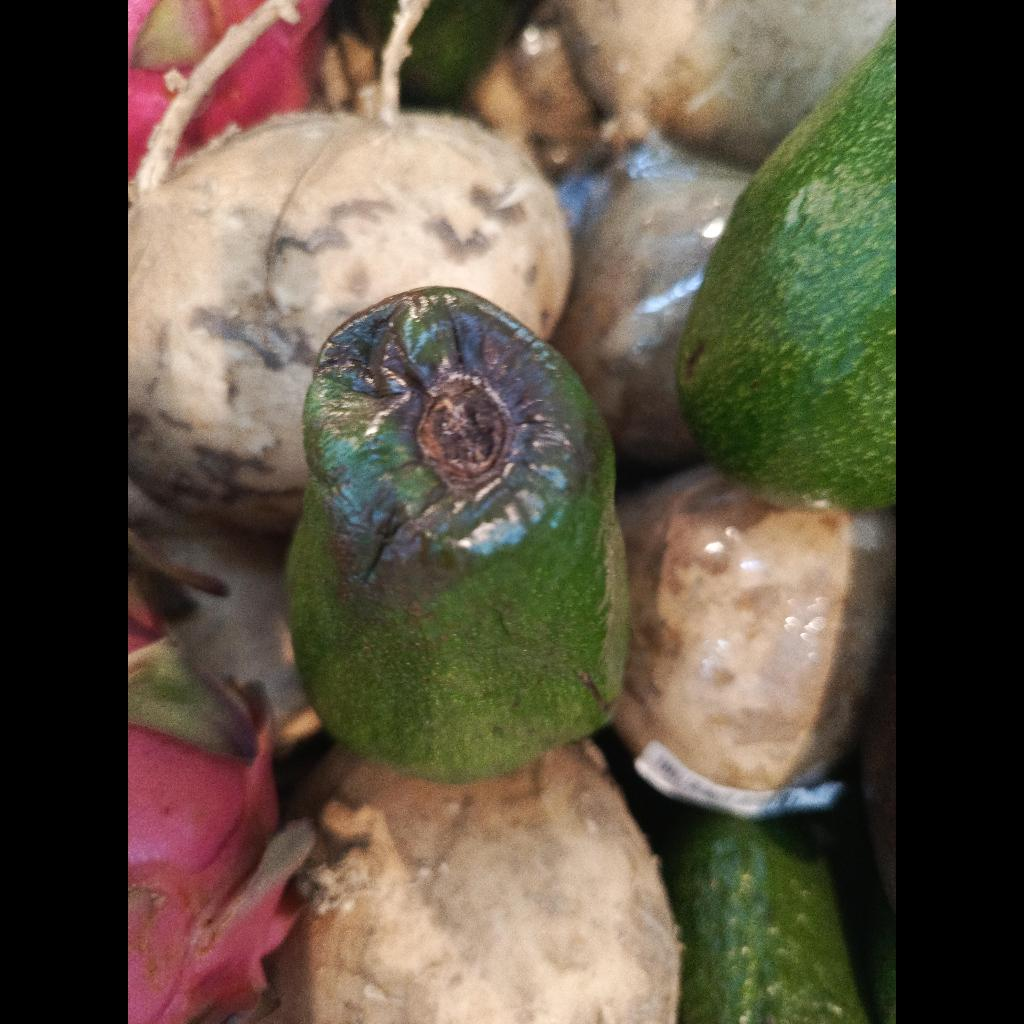stem end rot: (287, 286, 628, 782)
